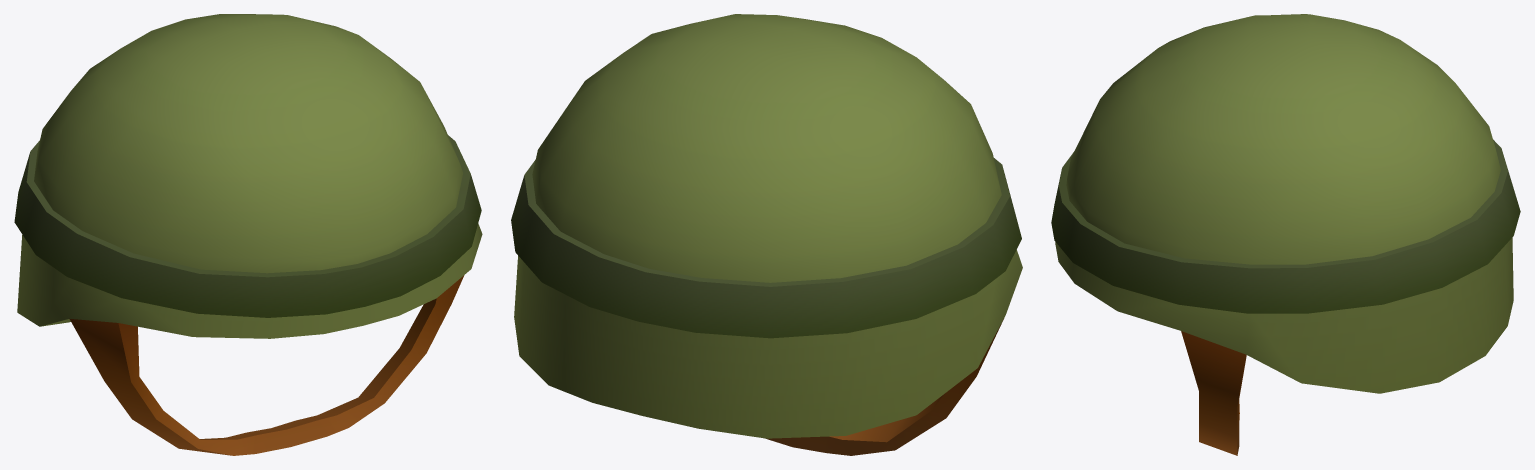
Rendered from rifle_Hat.fbx.
3 renders of one model, left to right at view 1: azimuth 30°, elevation 25°; view 2: azimuth 150°, elevation 25°; view 3: azimuth 270°, elevation 25°, orthographic. The views are drawn at different scales.
Parts seen in each view (by area): view 1: Stickman_heads_sphere.003; view 2: Stickman_heads_sphere.003; view 3: Stickman_heads_sphere.003.
Part boxes in pixels (<box>): Stickman_heads_sphere.003: <box>14,14,482,455</box>; Stickman_heads_sphere.003: <box>511,14,1022,455</box>; Stickman_heads_sphere.003: <box>1051,14,1520,455</box>.
Size of the model in its own units: 0.6773 by 0.6245 by 0.6804.
1 material, 1 textured.
